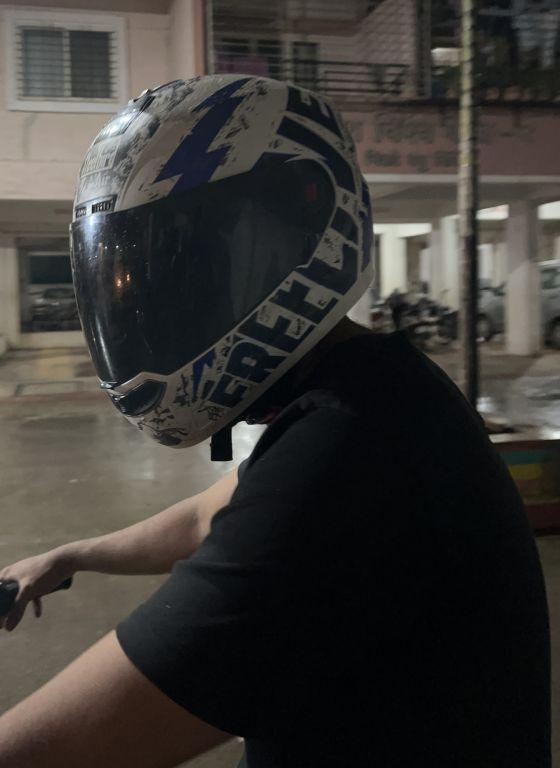helmet: (59, 54, 386, 463)
